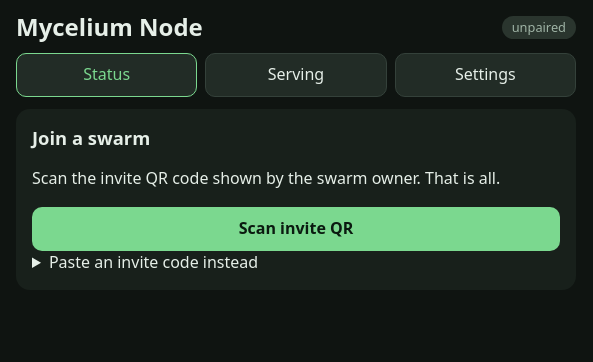
Scenario: node app › shows a plugin rejection object as readable text
Click the button "Scan invite QR".
click(296, 229)  # box [32,207,560,251]
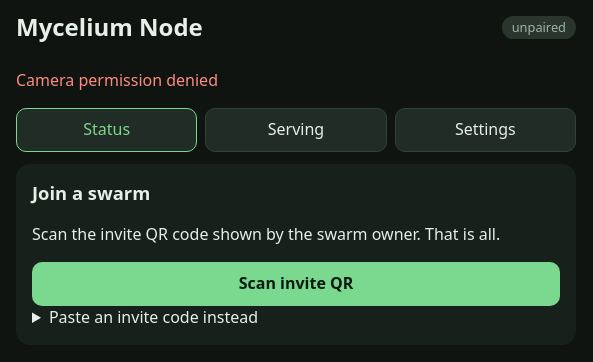
Expected: the message does not show "[object Object]", [16,69,218,91]
Result: the message reads "Camera permission denied" at [16,69,218,91]
